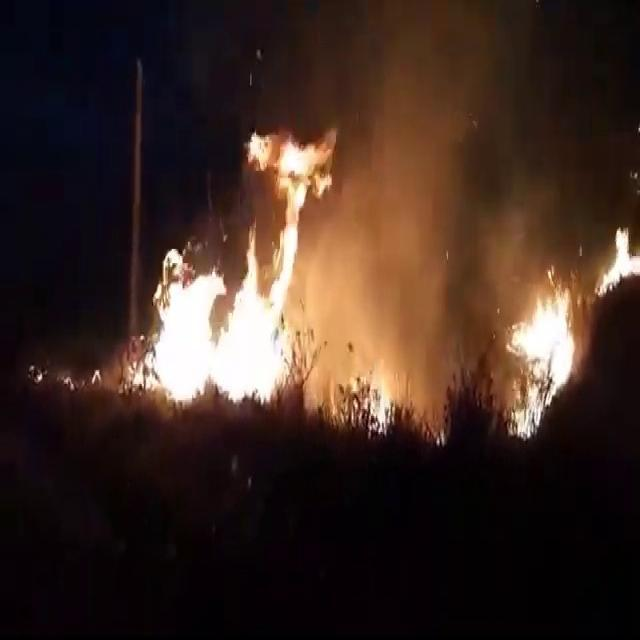Fire: (244, 99, 340, 237), (149, 248, 230, 394), (505, 290, 575, 432), (596, 226, 640, 297), (370, 364, 392, 444), (342, 365, 362, 438), (247, 218, 264, 299), (90, 366, 102, 394), (436, 420, 446, 450), (63, 367, 73, 392), (38, 365, 44, 387), (440, 428, 448, 444)
Smoke: (474, 152, 570, 279)
